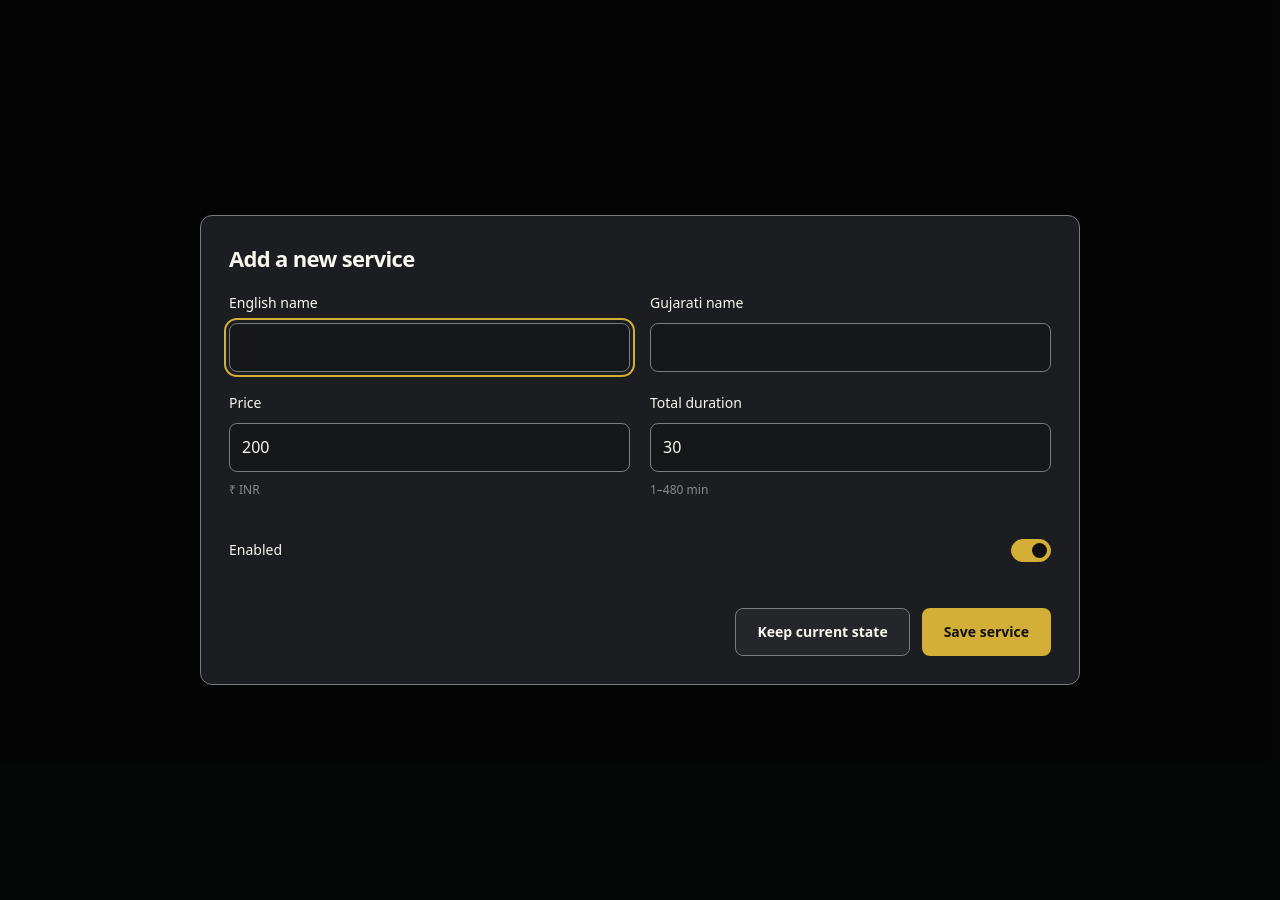
Scenario: Owner catalog matches the approved server bounds › rejects price 12.345 / duration 1 without silently rounding
The width and height of the screenshot is (1280, 900).
Type "Haircut" into the field labelled "English name" at coordinates (430, 348), box [229,323,630,372]
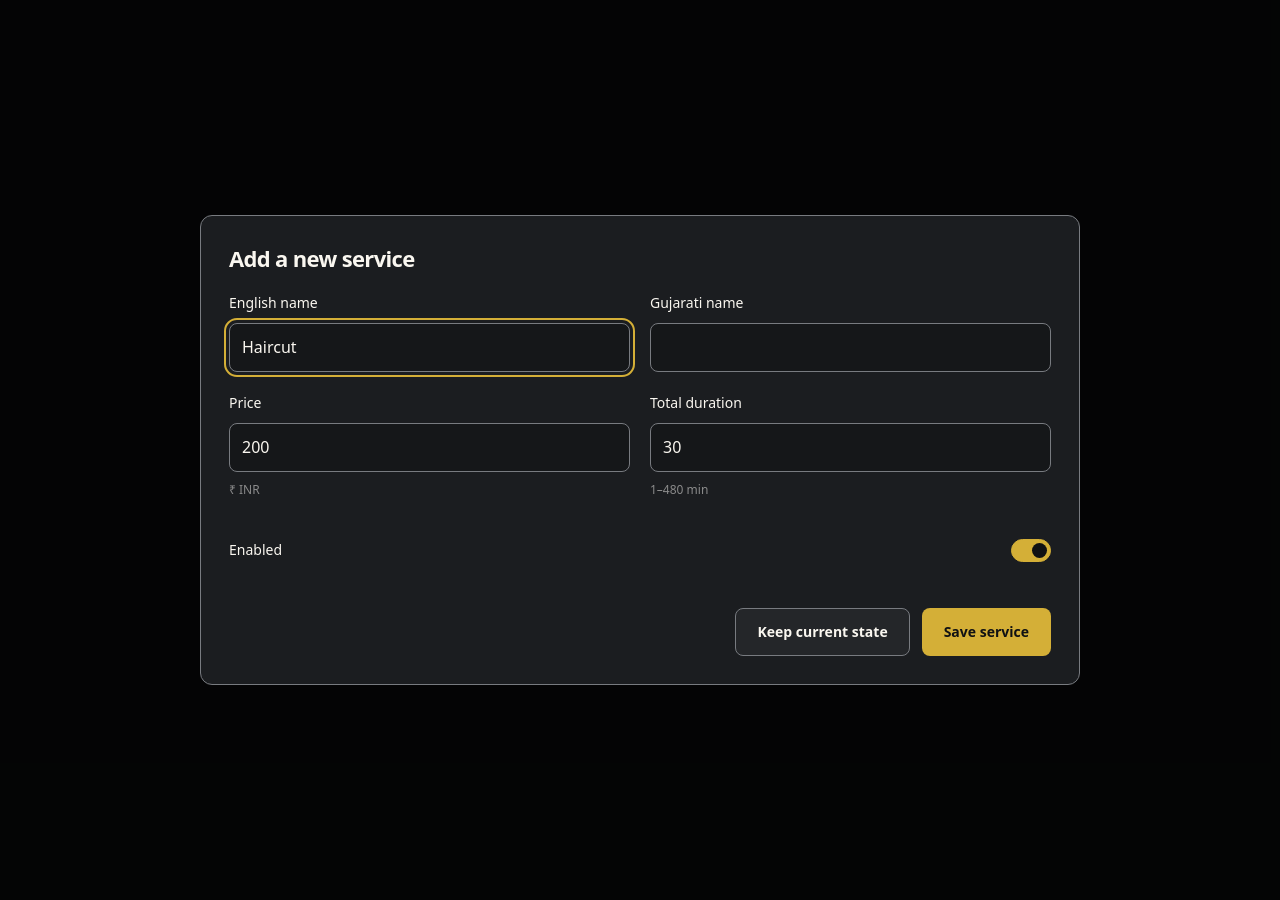
Type "હેરકટ" into the field labelled "Gujarati name" at coordinates (850, 348), box [650,323,1051,372]
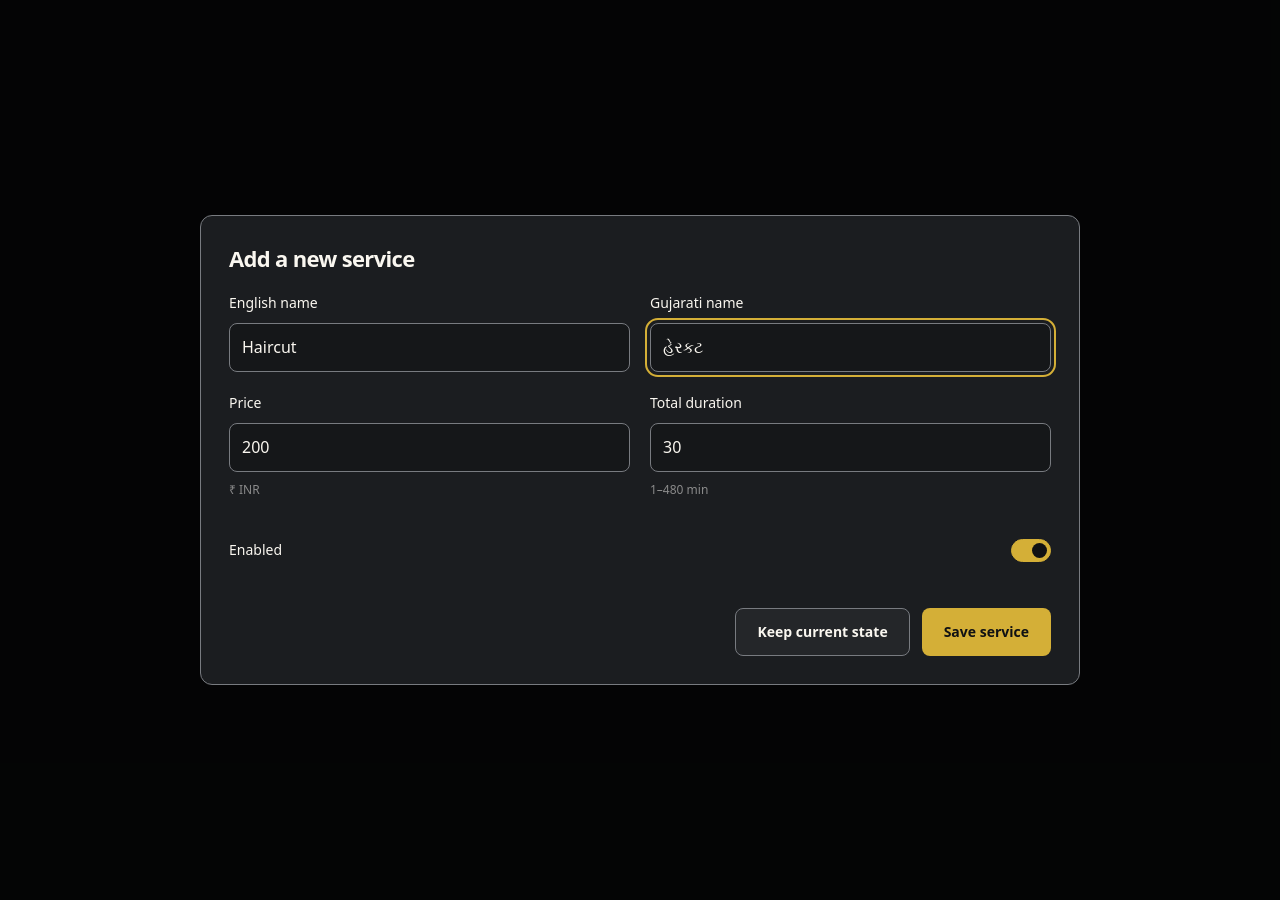
Replace the text in the number field labelled "Price" with "12.345" at coordinates (430, 448), box [229,423,630,472]
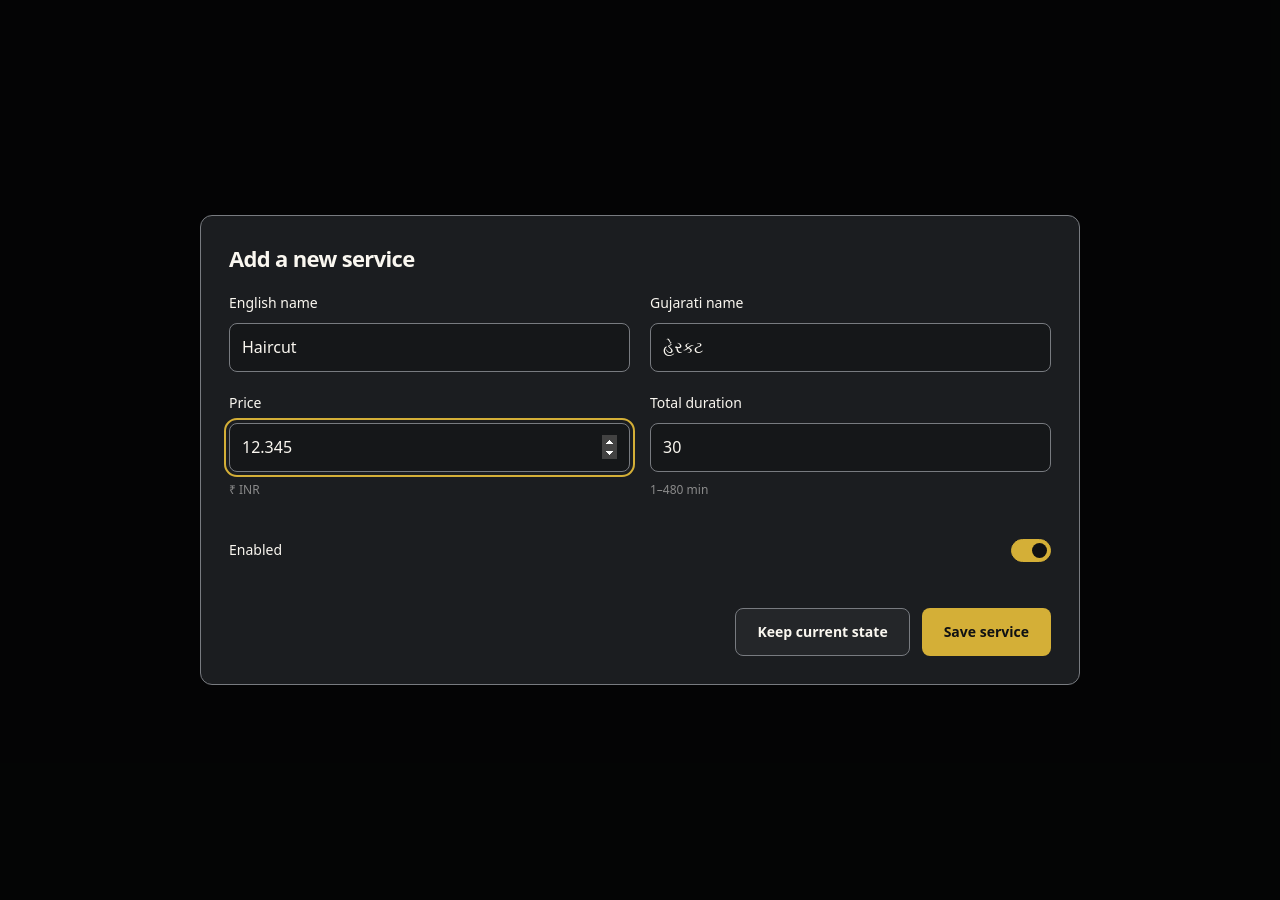
Replace the text in the number field labelled "Total duration" with "1" at coordinates (850, 448), box [650,423,1051,472]
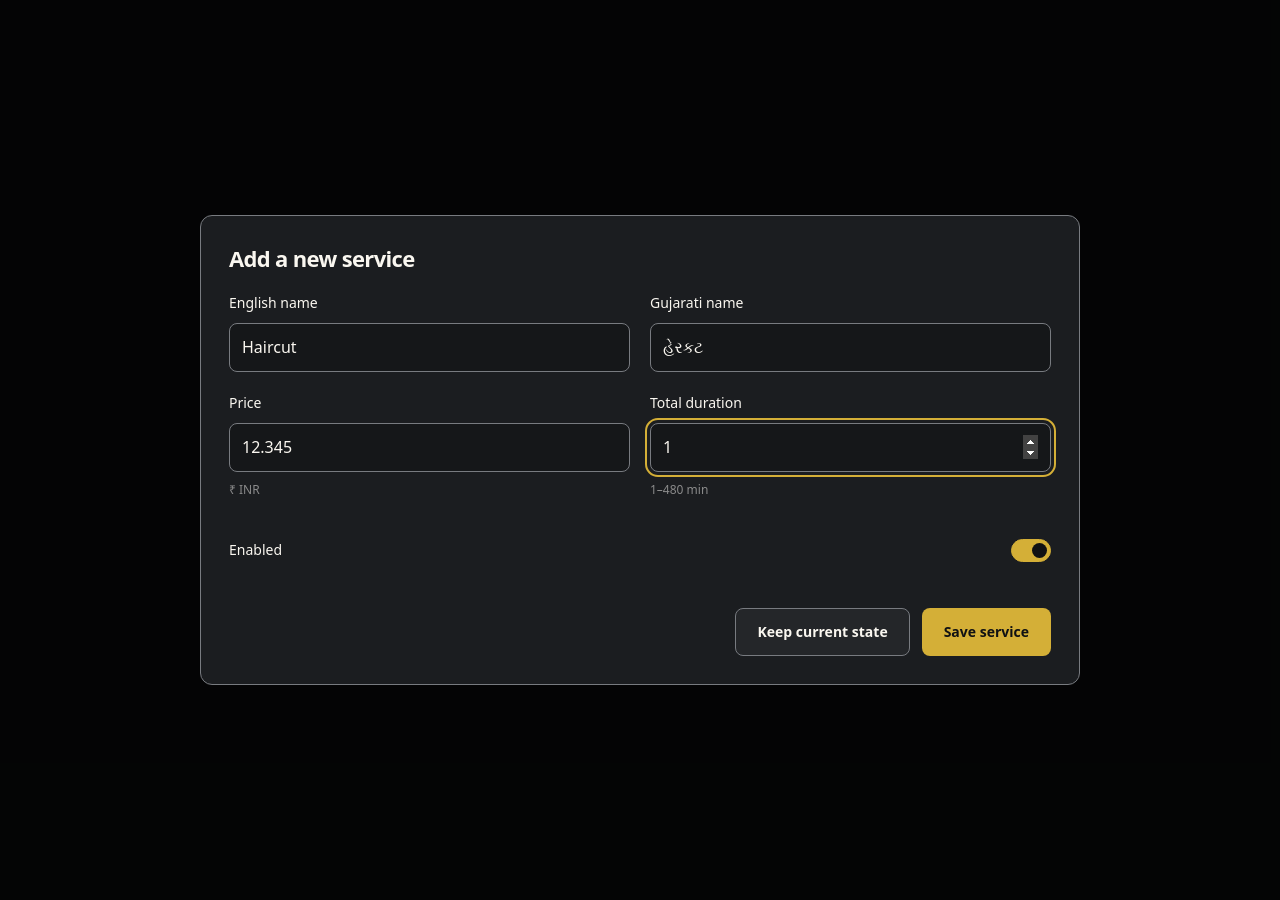
Click the button "Save service" at coordinates (986, 632), box [922,608,1051,656]
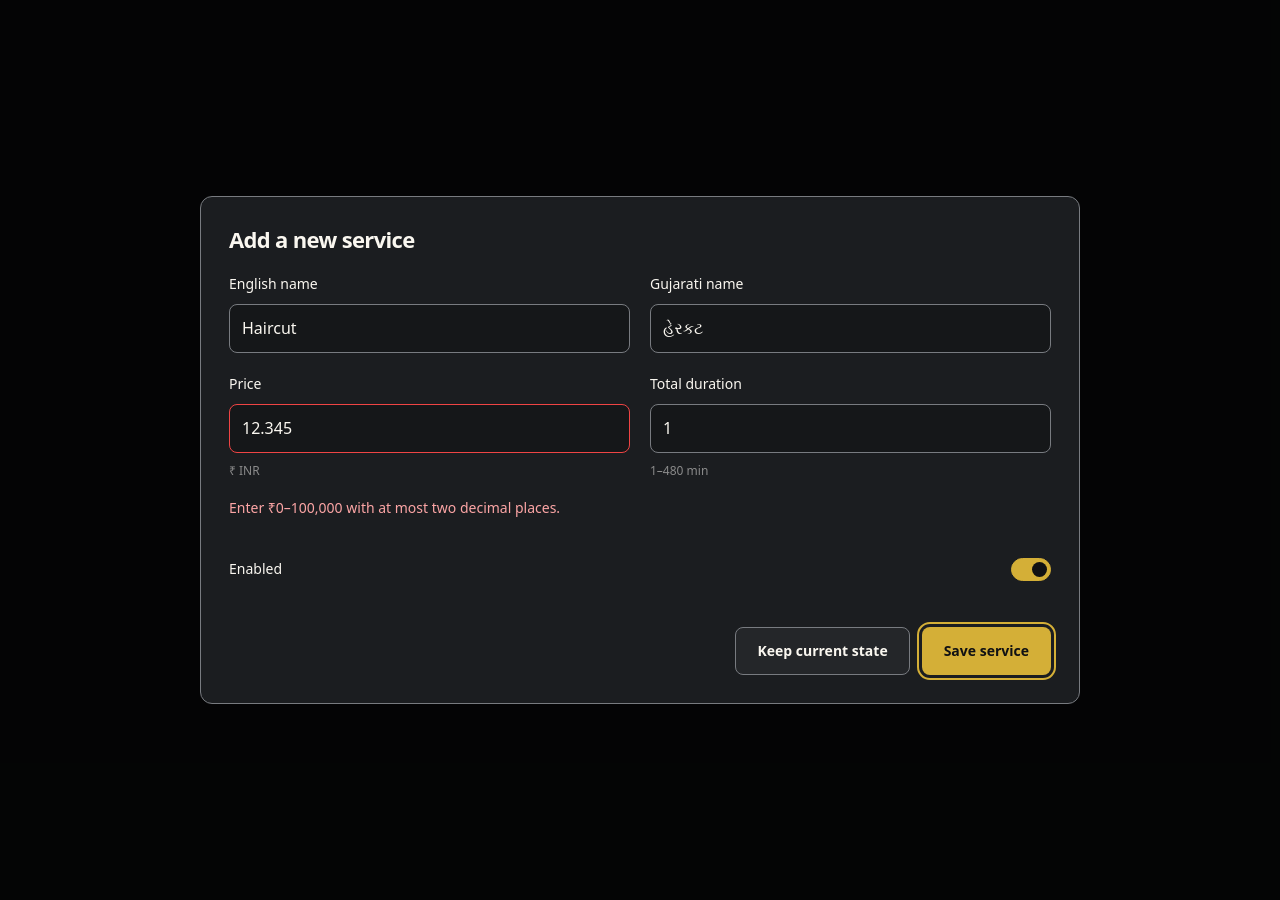
Now the text "Enter ₹0–100,000 with at most two decimal places." is shown, box [229,498,560,517]
